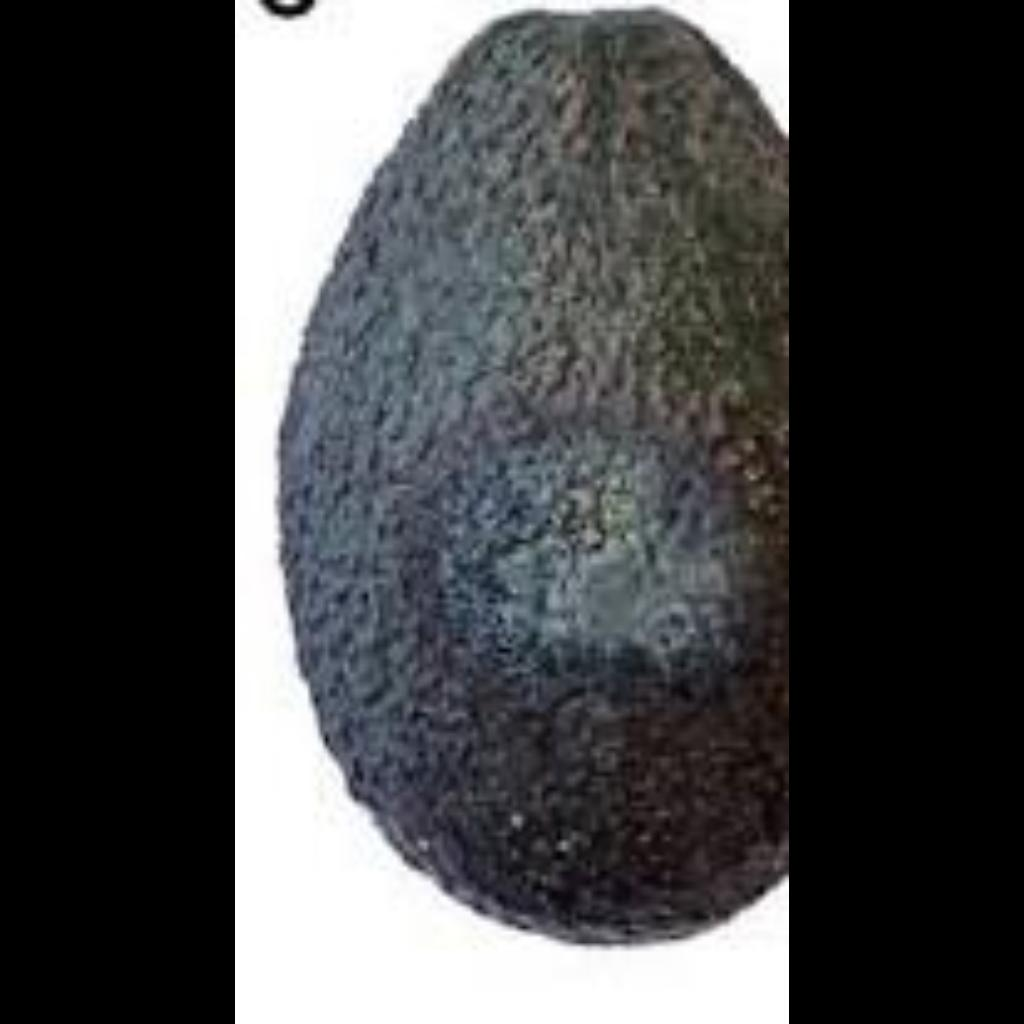antracnosis_fruto: (295, 38, 789, 932)
